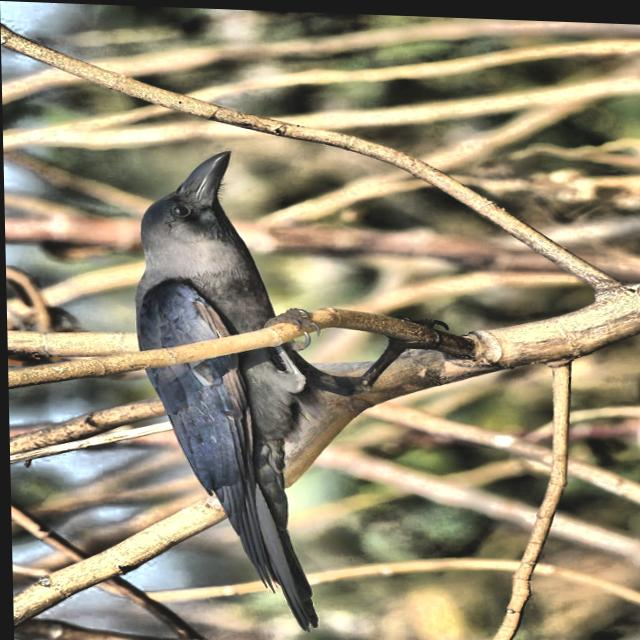crow: (107, 132, 462, 634)
